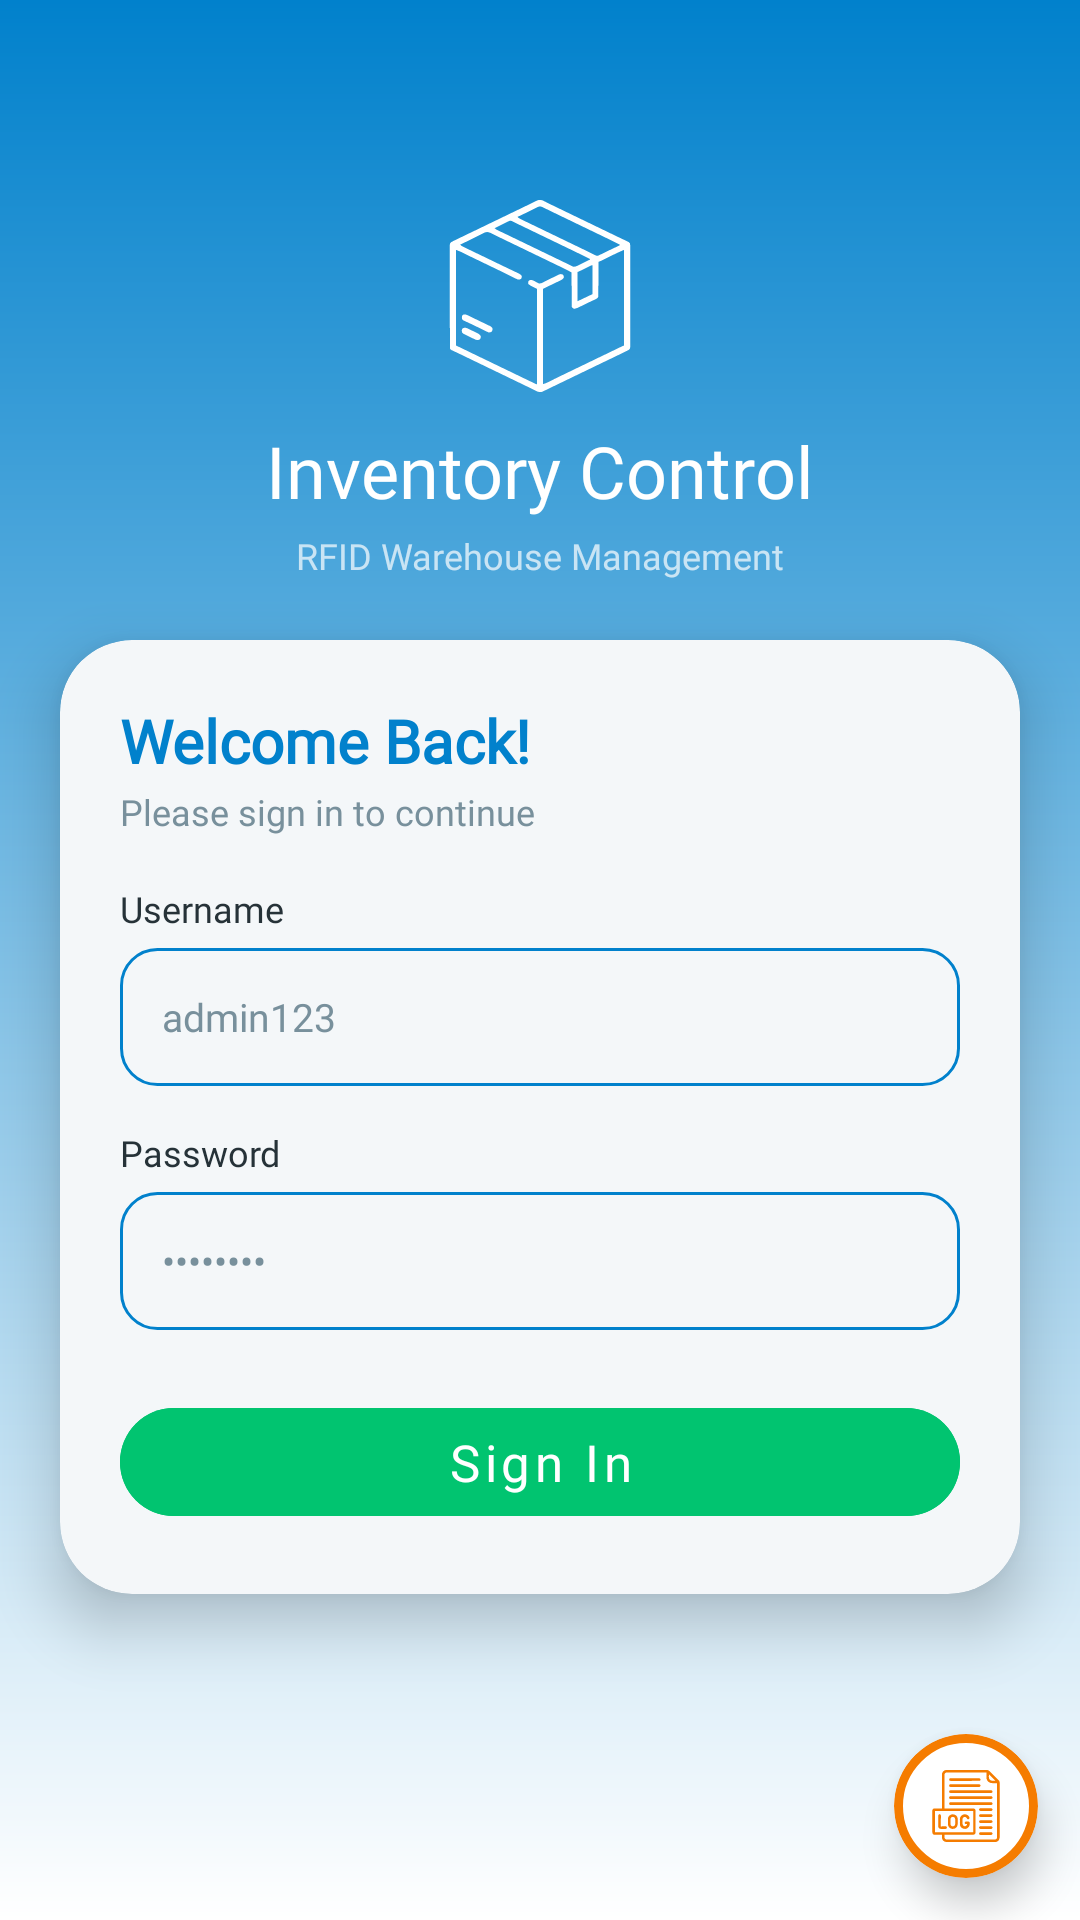

Screen size 1080x1920. Icon name, then its center in pixels as point (x, y):
Activity Log: point (966, 1806)
box: point (540, 296)
